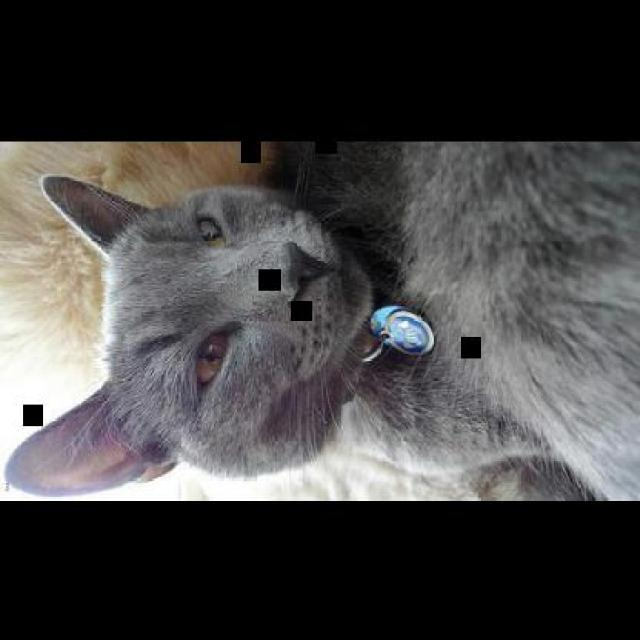unauthorized: (0, 140, 638, 500), (0, 140, 285, 388)
